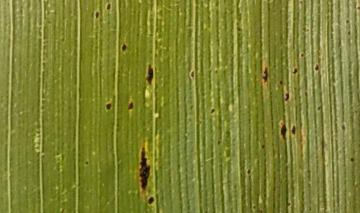tarspot: (135, 144, 154, 193), (144, 62, 156, 87), (261, 63, 271, 88), (278, 120, 289, 141), (145, 194, 158, 206), (125, 99, 137, 112), (103, 1, 115, 12), (92, 9, 103, 20), (291, 64, 299, 79), (290, 123, 298, 137), (283, 90, 291, 104), (119, 41, 129, 52), (208, 106, 218, 116), (104, 100, 113, 111), (312, 62, 321, 73), (348, 155, 357, 166), (244, 167, 254, 176)
